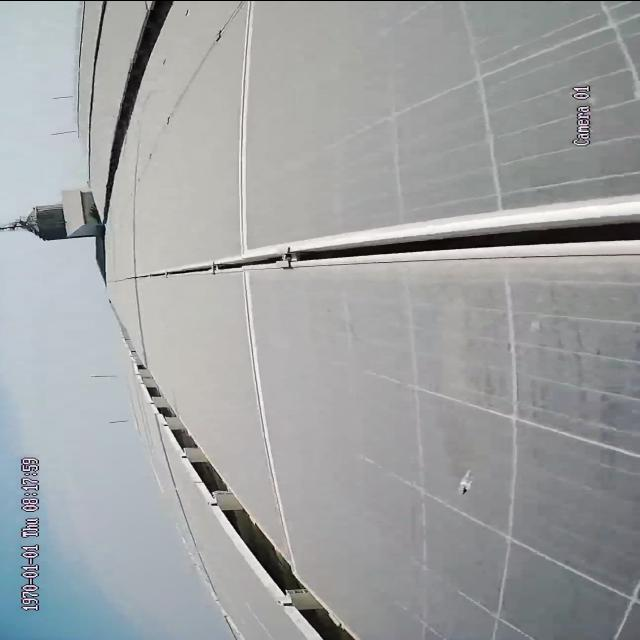interior panel: (115, 196, 634, 283), (233, 3, 296, 556)
outher panel: (129, 342, 361, 640), (105, 1, 183, 197)
